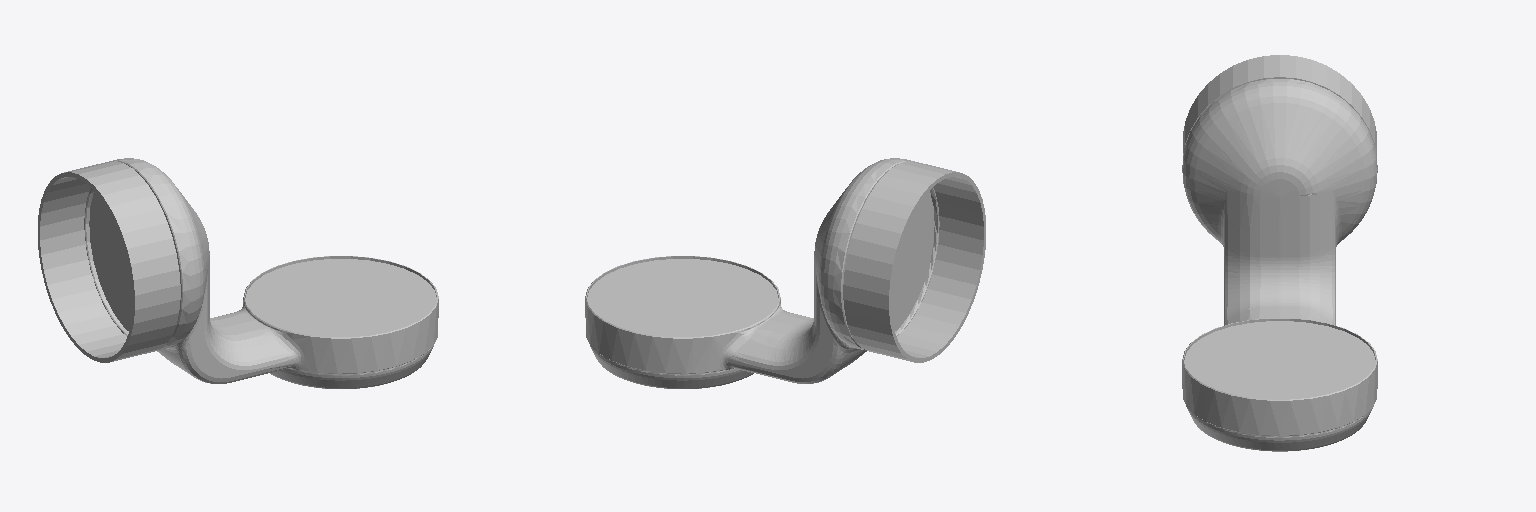
File: forearm_roll_link.obj
3 renders of one model, left to right at view 1: azimuth 30°, elevation 25°; view 2: azimuth 150°, elevation 25°; view 3: azimuth 270°, elevation 25°, orthographic.
Parts seen in each view (by area): view 1: forearm_roll_link_forearm roll link.001_Material_001.027; view 2: forearm_roll_link_forearm roll link.001_Material_001.027; view 3: forearm_roll_link_forearm roll link.001_Material_001.027.
Boxes of the visible parts, box(x1,y1,x2,y2) form: forearm_roll_link_forearm roll link.001_Material_001.027: box(38, 158, 438, 388); forearm_roll_link_forearm roll link.001_Material_001.027: box(585, 158, 985, 388); forearm_roll_link_forearm roll link.001_Material_001.027: box(1182, 55, 1377, 451).
Bounding box in the file's own units: 0.2085 × 0.139 × 0.104.